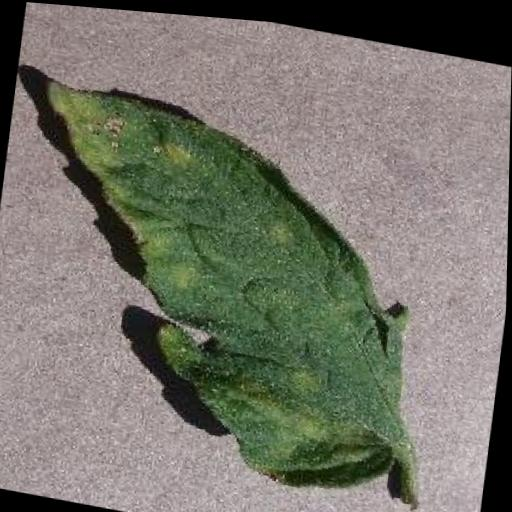Leaf Mold: (1, 78, 433, 498)
